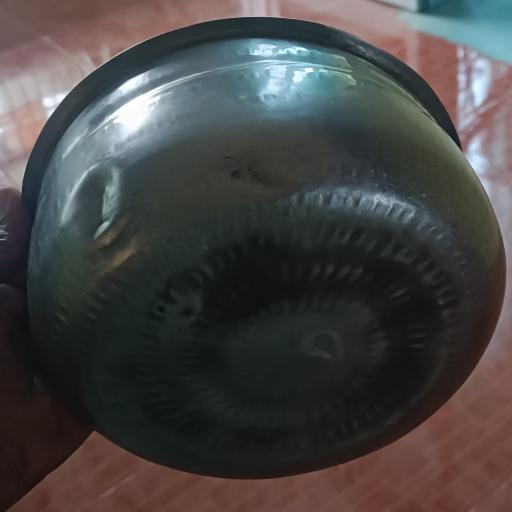vessel: (23, 18, 505, 477)
